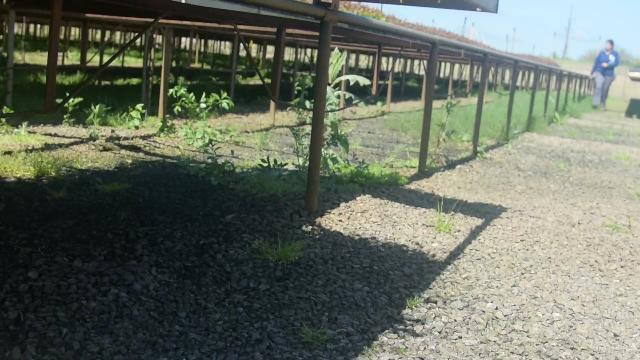MalezaMontesDelPlata: (288, 51, 377, 185), (180, 150, 308, 199), (172, 79, 236, 150), (322, 151, 411, 192), (0, 146, 93, 181), (238, 227, 316, 268), (432, 92, 463, 170), (424, 195, 471, 238), (0, 104, 40, 149), (288, 316, 341, 349), (112, 100, 152, 134), (86, 173, 137, 195), (86, 98, 110, 144), (55, 90, 82, 127)
